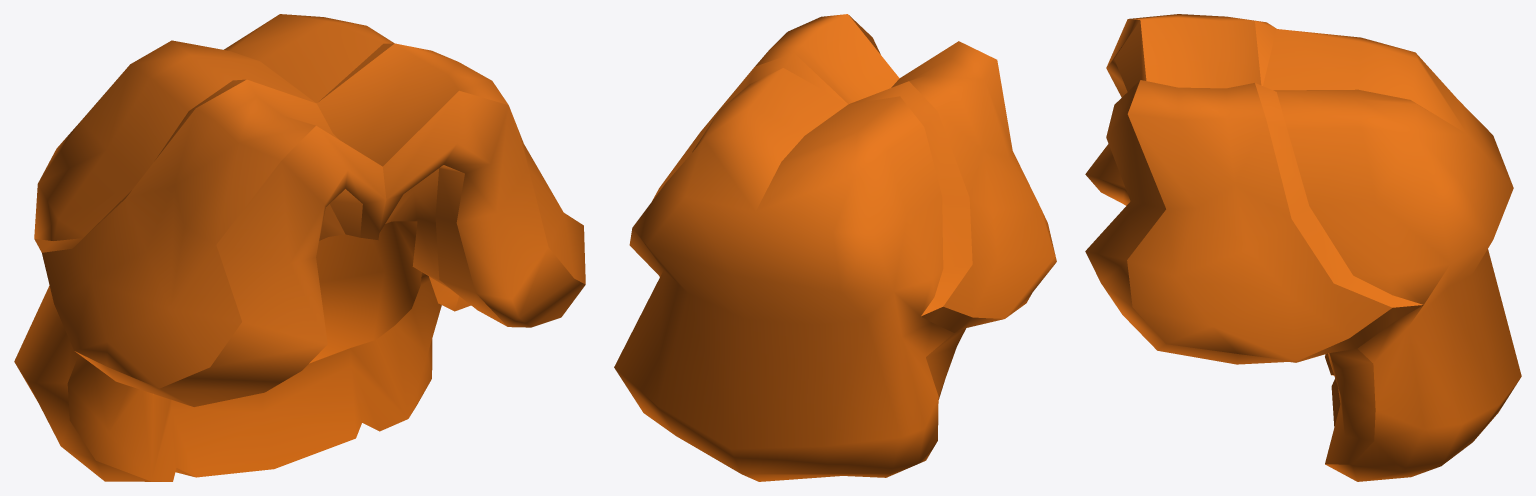
The model's file is Hair_Orange_6.fbx.
3 renders of one model, left to right at view 1: azimuth 30°, elevation 25°; view 2: azimuth 150°, elevation 25°; view 3: azimuth 270°, elevation 25°, orthographic. The views are drawn at different scales.
Visible parts, largest first — view 1: Hair_Orange_6; view 2: Hair_Orange_6; view 3: Hair_Orange_6.
Boxes of the visible parts, x1,y1,x2,y2 form: Hair_Orange_6: [14, 14, 585, 481]; Hair_Orange_6: [614, 14, 1056, 481]; Hair_Orange_6: [1085, 14, 1521, 481].
Size of the model in its own units: 71.21 by 65.88 by 65.95.
